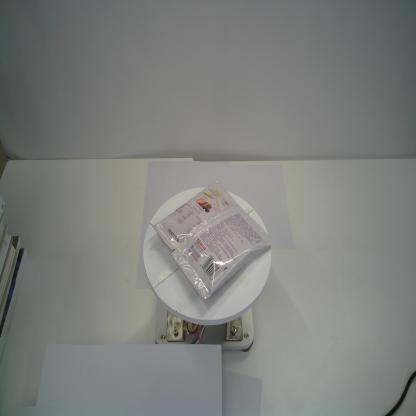Instant Drink: (150, 178, 275, 305)
